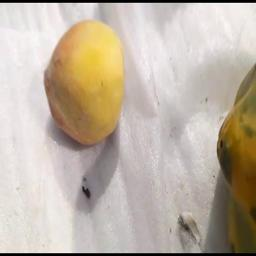Peach Semifresh: (31, 16, 136, 168)
